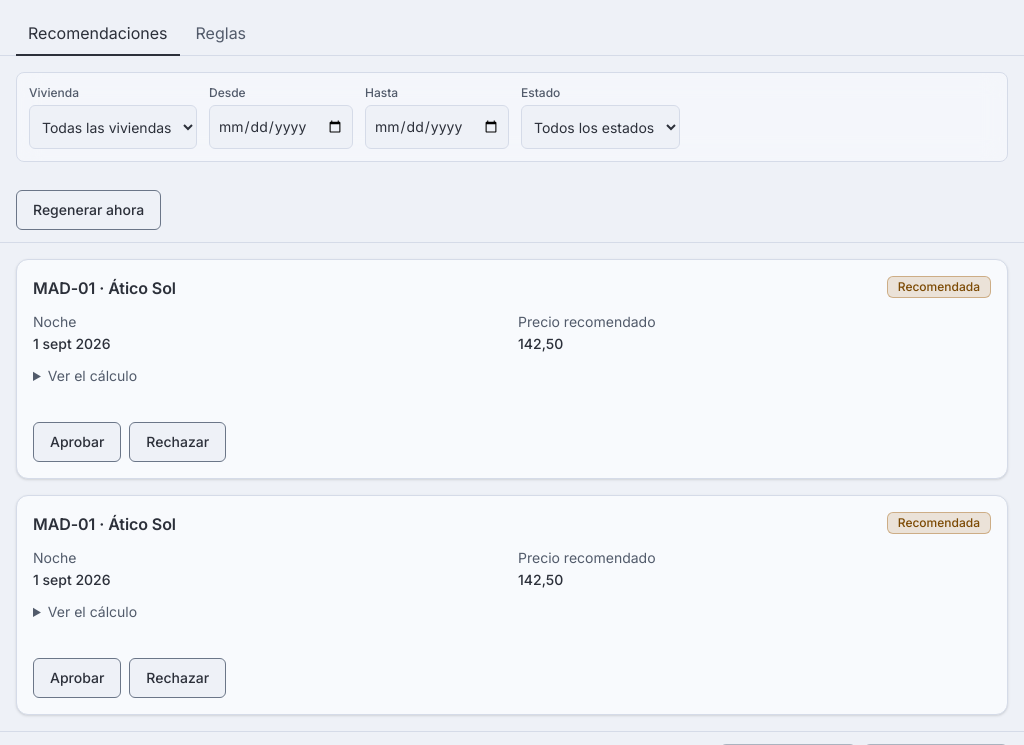
Test: PricingView — one write in flight (R3.3, R4.4, design D8) › disables every row's decision buttons and the regenerate button
Click the 1st button "Aprobar" at [77, 442], box [33,422,121,462]
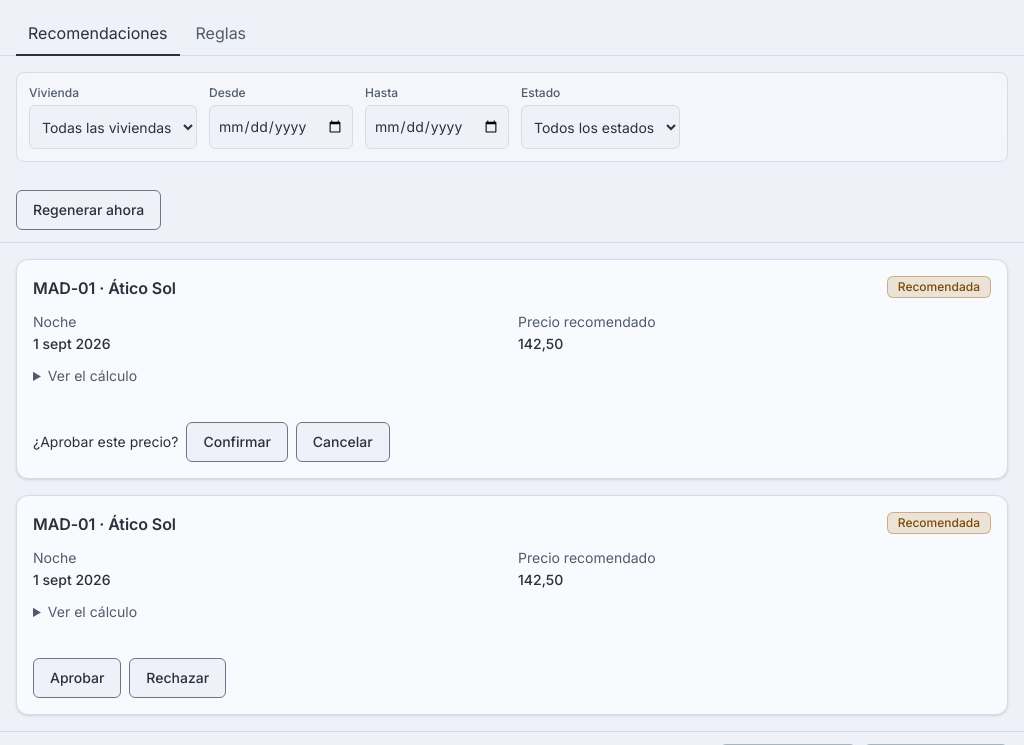
Click the button "Confirmar" at [237, 442], box [186,422,288,462]
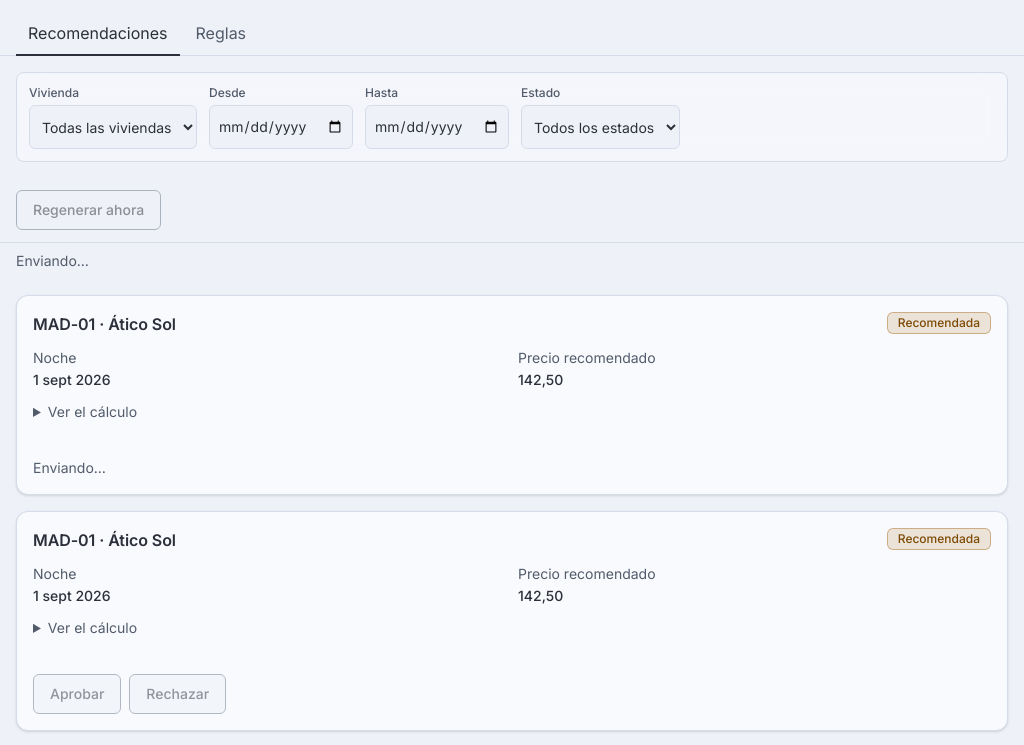
Result: the button "Regenerar ahora" is disabled at [16,190,161,230]
Result: the button "Aprobar" is disabled at [33,674,121,714]
